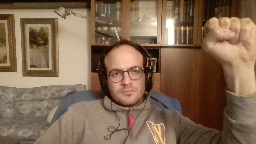Pugno: (199, 14, 256, 66)
